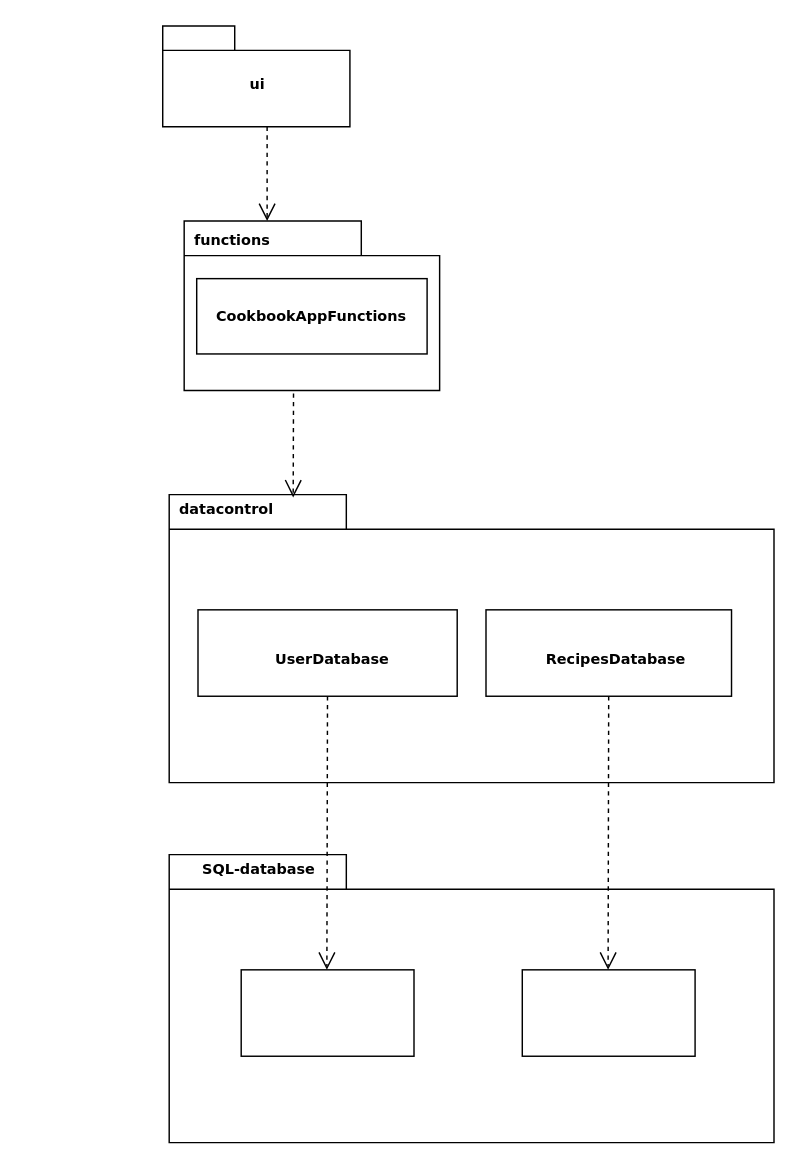
Image size: 799x1168. Some labels were removed from this diagram. The shapes that lost their labels are listed below. From the top down, each one's box as (x1, y1, x2, y2) in pixels, then its label:
(240, 968, 414, 1056): users
(521, 968, 695, 1056): recipes
